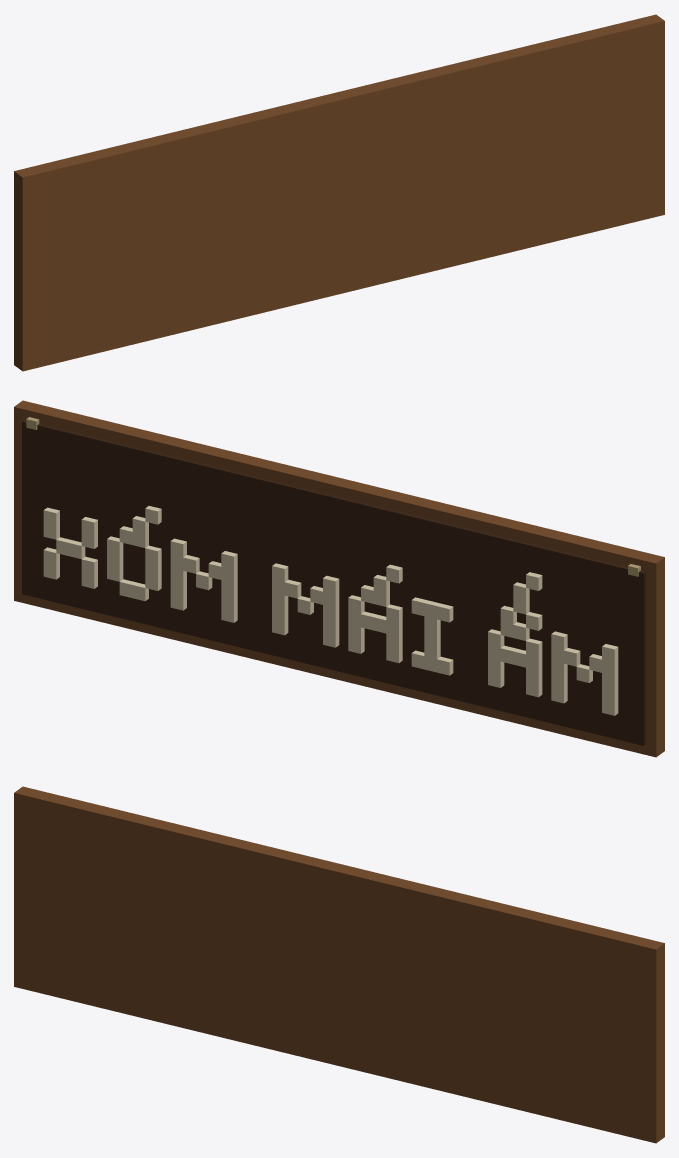
The model's file is tt-sign-xom-mai-am.glb.
3 views of the same model, one above another, from view 1: azimuth 30°, elevation 25°; view 2: azimuth 150°, elevation 25°; view 3: azimuth 330°, elevation 25° (orthographic).
Visible parts, largest first — view 1: box-prop; view 2: box-prop; view 3: box-prop.
Part boxes in pixels (bbox=[...]): box-prop: bbox=[14, 14, 664, 371]; box-prop: bbox=[14, 400, 664, 757]; box-prop: bbox=[14, 786, 664, 1143].
Size of the model in its own units: 5.06 by 1.46 by 0.2.
